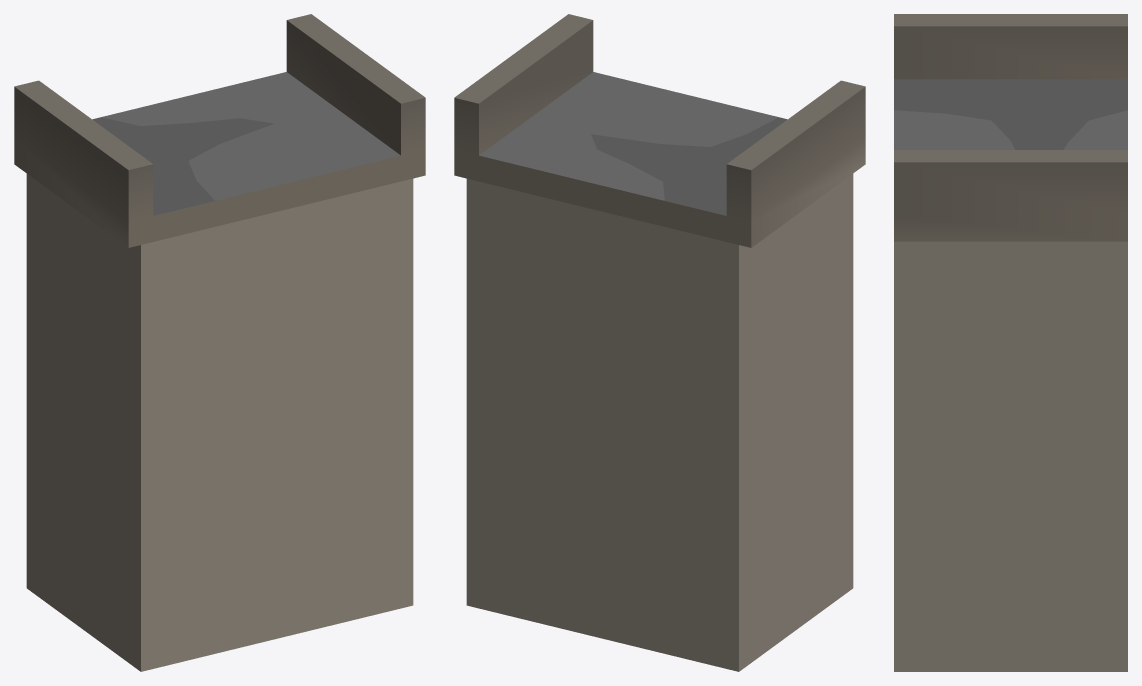
File: Walkway-Bridge_B.fbx
3 renders of one model, left to right at view 1: azimuth 30°, elevation 25°; view 2: azimuth 150°, elevation 25°; view 3: azimuth 270°, elevation 25°, orthographic. The views are drawn at different scales.
Visible parts, largest first — view 1: Walkway-Bridge_B; view 2: Walkway-Bridge_B; view 3: Walkway-Bridge_B.
Boxes of the visible parts, x1,y1,x2,y2 form: Walkway-Bridge_B: (14,14,425,671); Walkway-Bridge_B: (454,14,865,671); Walkway-Bridge_B: (894,14,1127,671).
Size of the model in its own units: 600 by 974 by 400.
